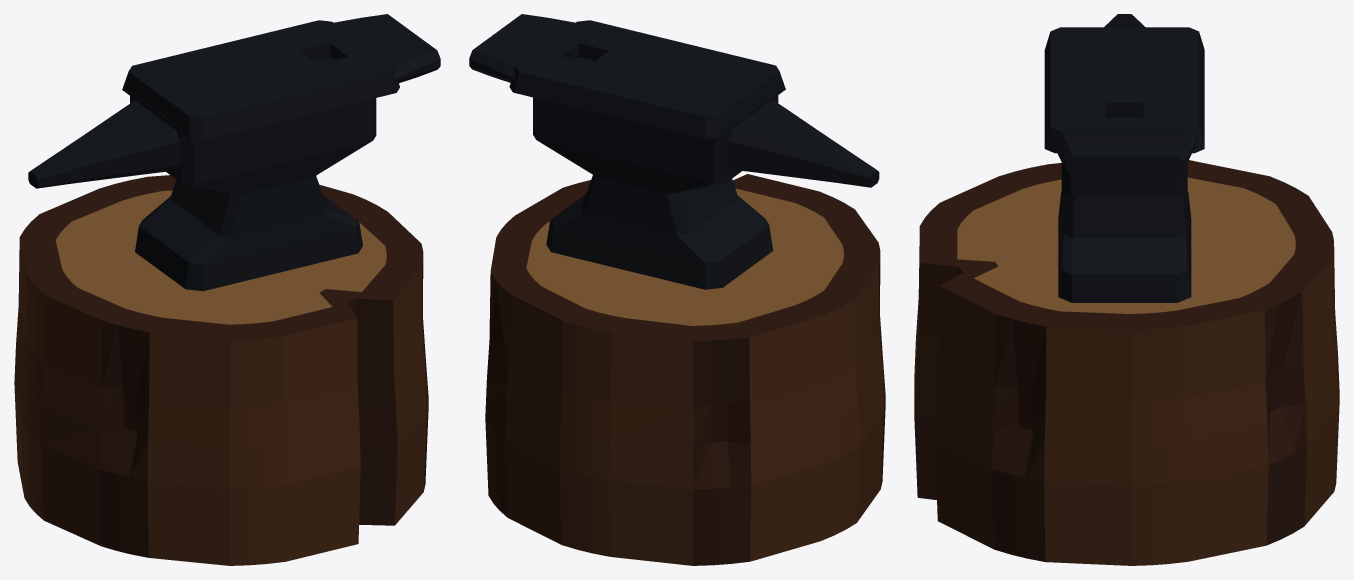
The model's file is anvil-1286cb.fbx.
3 renders of one model, left to right at view 1: azimuth 30°, elevation 25°; view 2: azimuth 150°, elevation 25°; view 3: azimuth 270°, elevation 25°, orthographic. The views are drawn at different scales.
Parts seen in each view (by area): view 1: stump_wood, anvil-iron, stump_woodDark, stump_cut; view 2: stump_wood, anvil-iron, stump_woodDark, stump_cut; view 3: stump_wood, stump_woodDark, anvil-iron, stump_cut.
Part boxes in pixels (<box>): stump_wood: <box>14,238,426,565</box>; anvil-iron: <box>28,14,440,291</box>; stump_woodDark: <box>19,175,428,557</box>; stump_cut: <box>55,190,386,324</box>; stump_wood: <box>504,266,883,565</box>; anvil-iron: <box>469,14,879,289</box>; stump_woodDark: <box>485,174,885,565</box>; stump_cut: <box>526,188,843,325</box>; stump_wood: <box>914,246,1339,565</box>; stump_woodDark: <box>914,160,1333,561</box>; anvil-iron: <box>1044,14,1204,302</box>; stump_cut: <box>957,177,1295,313</box>.
Size of the model in its own units: 81.2 by 82.2 by 75.53.
